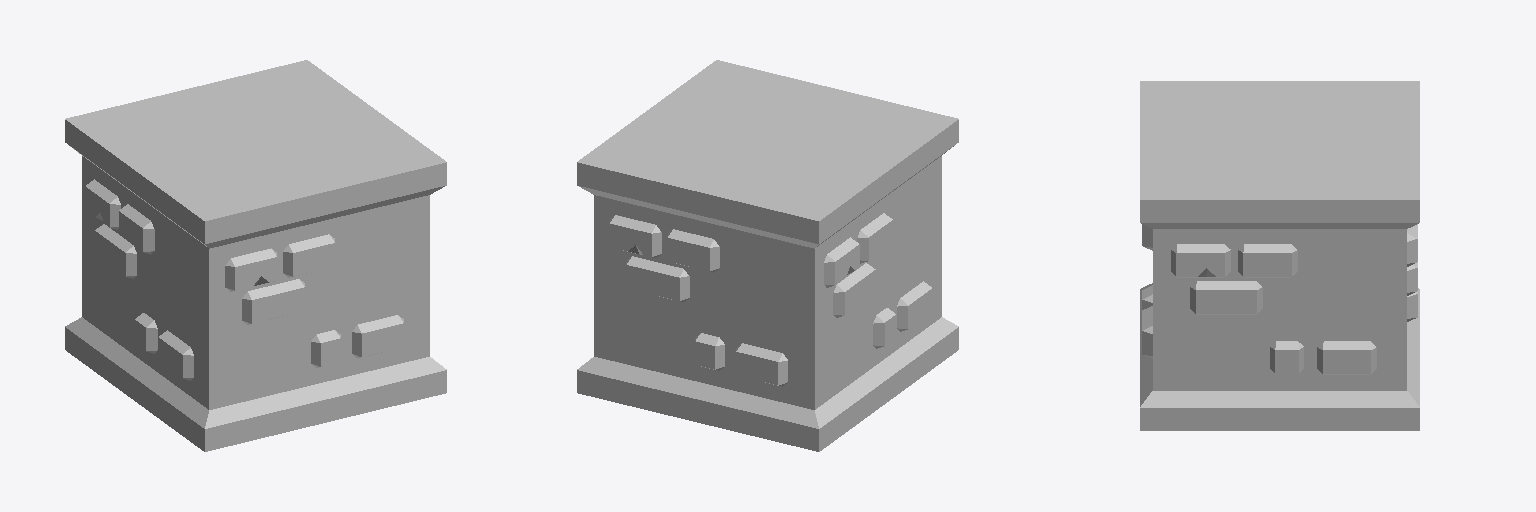
Rendered from floor_foundation_allsides.obj.
3 views of the same model, side by side, from view 1: azimuth 30°, elevation 25°; view 2: azimuth 150°, elevation 25°; view 3: azimuth 270°, elevation 25° (orthographic).
Parts seen in each view (by area): view 1: floor_foundation_allsides; view 2: floor_foundation_allsides; view 3: floor_foundation_allsides.
Boxes of the visible parts, <box> form: floor_foundation_allsides: <box>65,60,446,451</box>; floor_foundation_allsides: <box>577,60,958,451</box>; floor_foundation_allsides: <box>1140,81,1419,430</box>.
Size of the model in its own units: 2.2 by 2 by 2.2.